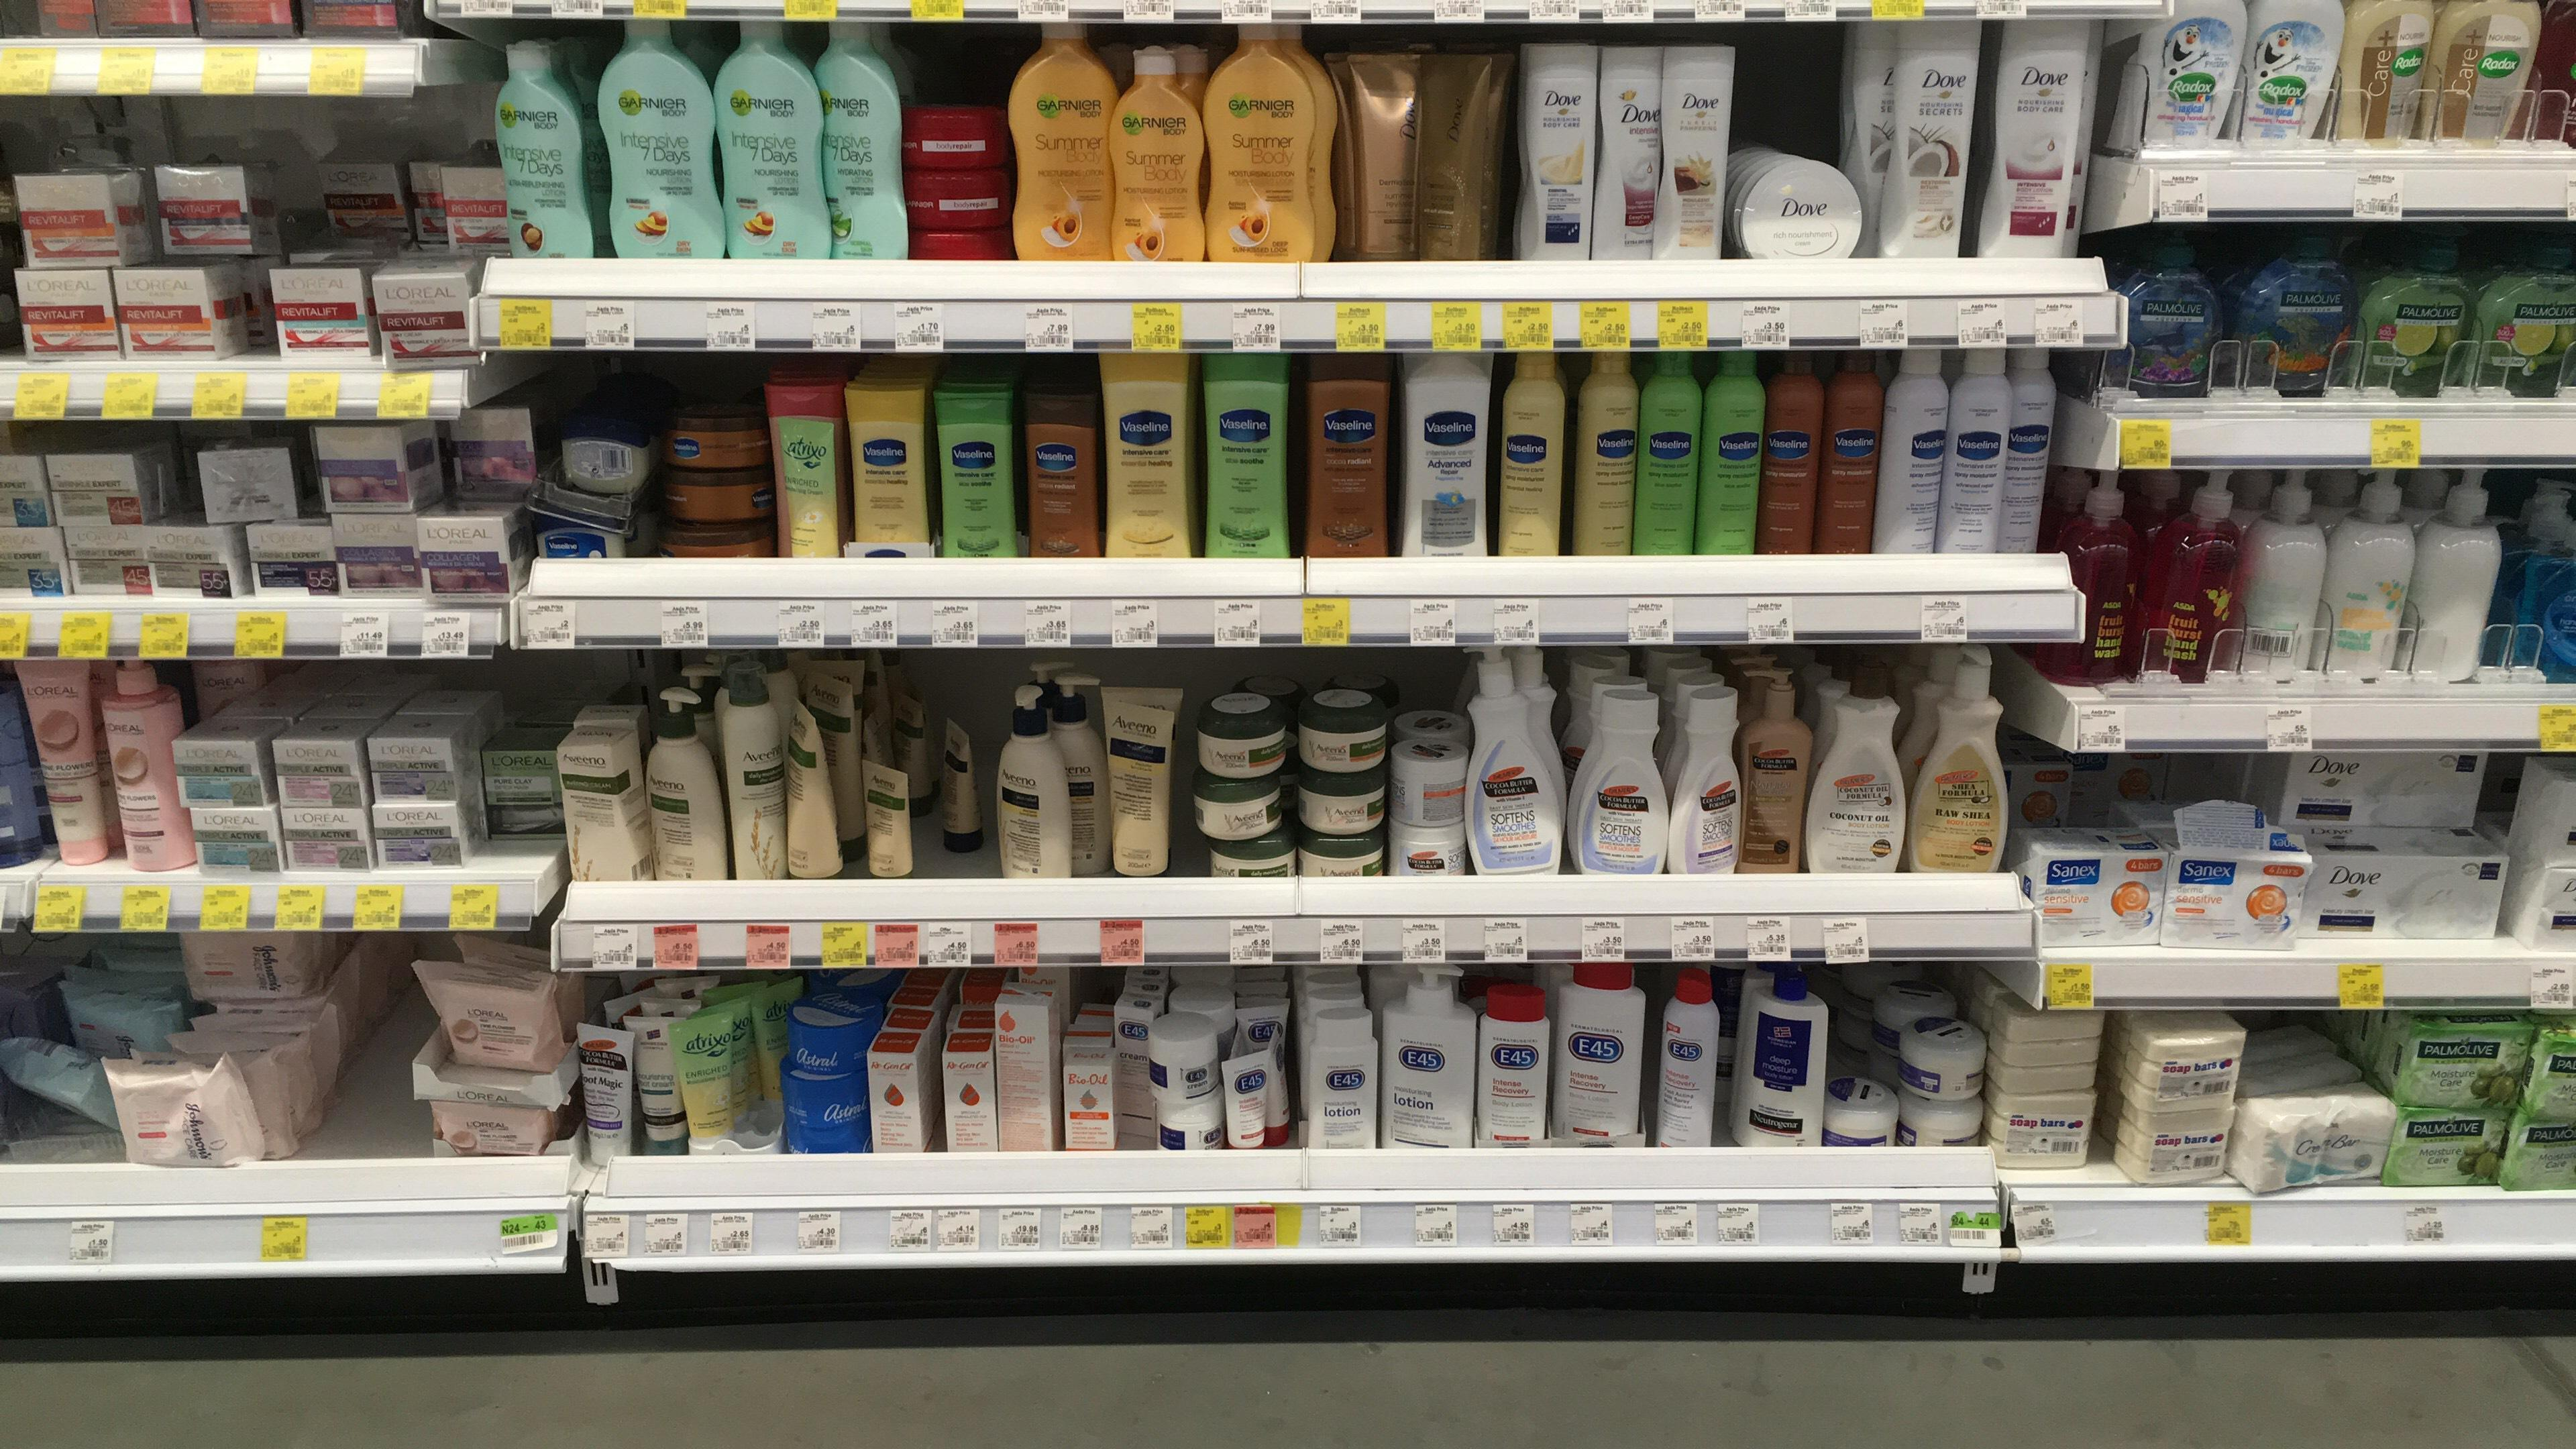misalignment: (2, 1030, 134, 1169), (2242, 1097, 2383, 1185), (540, 405, 646, 518), (778, 718, 855, 874), (931, 704, 1000, 865), (1215, 1023, 1297, 1157), (182, 441, 308, 518)
